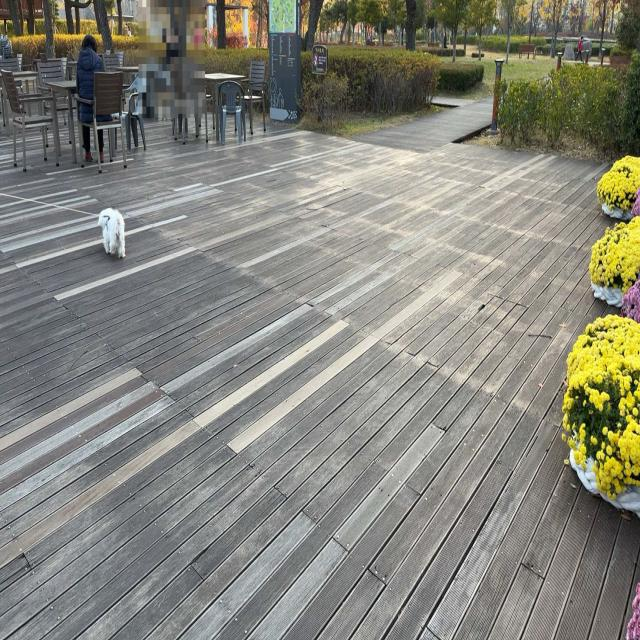Dog: (98, 206, 126, 259)
